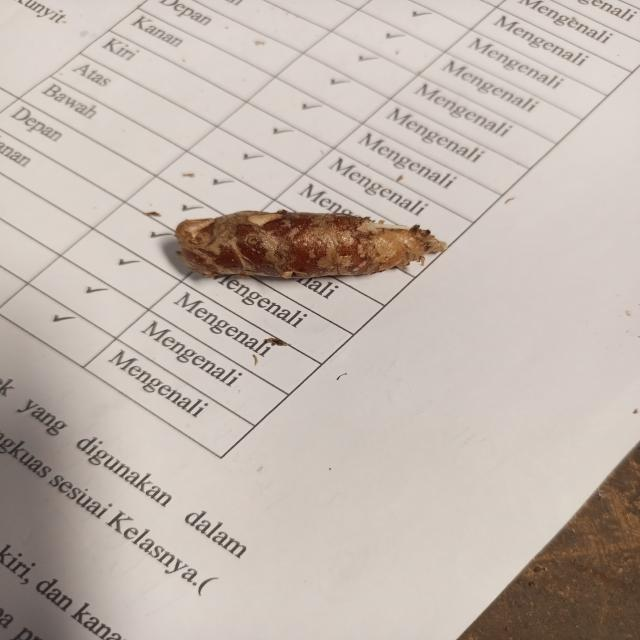ginger: (171, 200, 433, 279)
